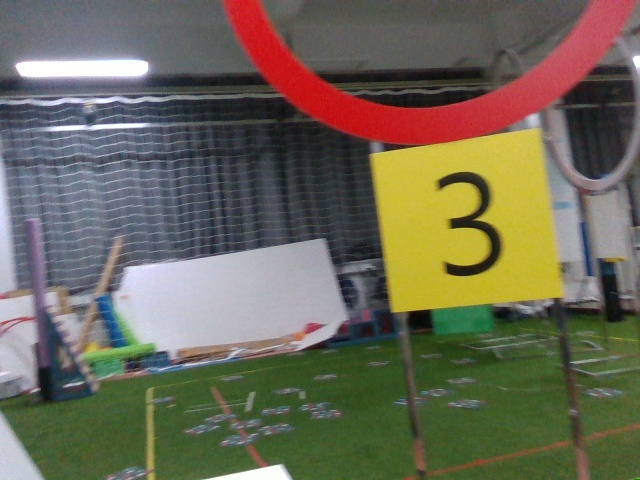target: (379, 150, 557, 299)
